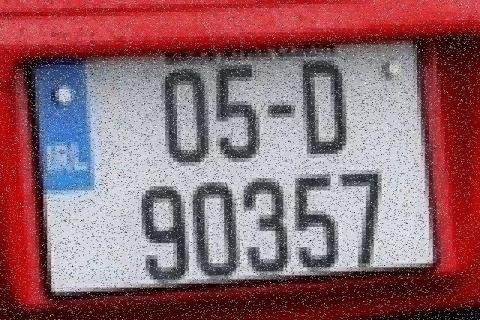LicensePlate: (20, 47, 457, 306)
